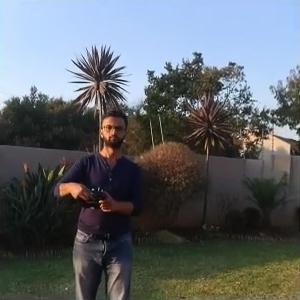follow: (49, 102, 145, 299)
